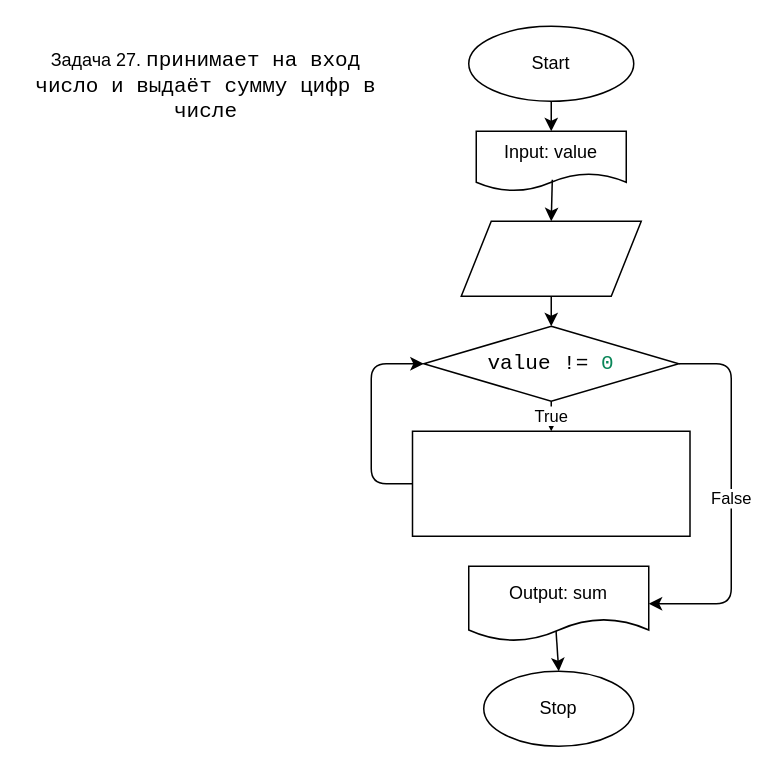
Some shapes in this 777 by 773 pixel diagram are drawn without their labels. The shapes that lost their labels are listed below. From the top down, each one's centre as x and y in pixels, then its label:
point (550, 258): sum = 0 rest = 0
point (550, 483): rest = value % 10 sum = sum + rest value = value / 10
